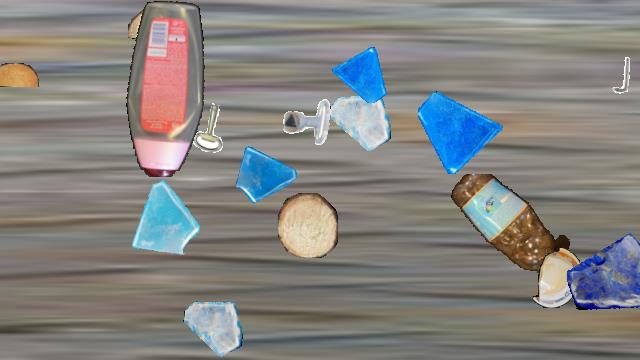glass: (418, 89, 502, 173), (121, 179, 201, 259), (567, 227, 640, 313), (233, 140, 299, 206), (330, 93, 390, 153), (183, 299, 243, 359), (332, 46, 388, 102)
metal: (185, 100, 241, 156), (282, 97, 334, 149), (600, 55, 640, 95)
plastic: (125, 1, 209, 177), (448, 174, 572, 272), (533, 248, 583, 308)
wood: (278, 193, 338, 257), (128, 9, 202, 41), (0, 63, 39, 87)
